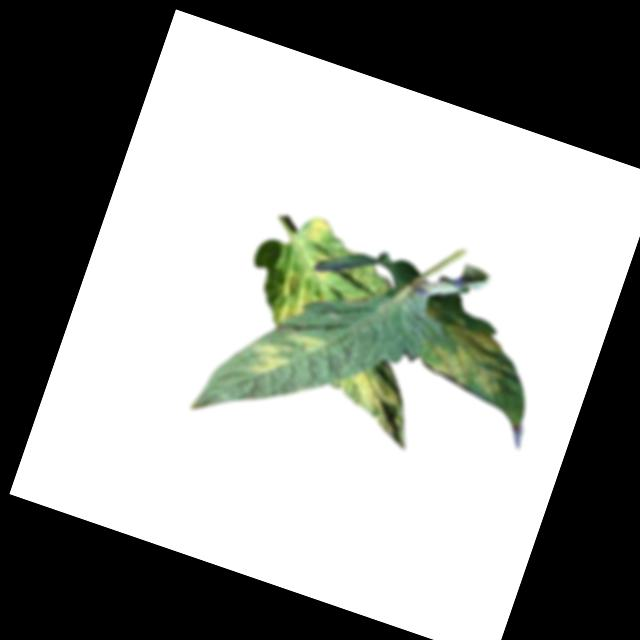Leaf_Mold: (404, 302, 518, 397), (329, 356, 428, 449), (245, 315, 328, 391), (272, 270, 324, 330), (298, 211, 333, 246), (308, 249, 338, 280)
